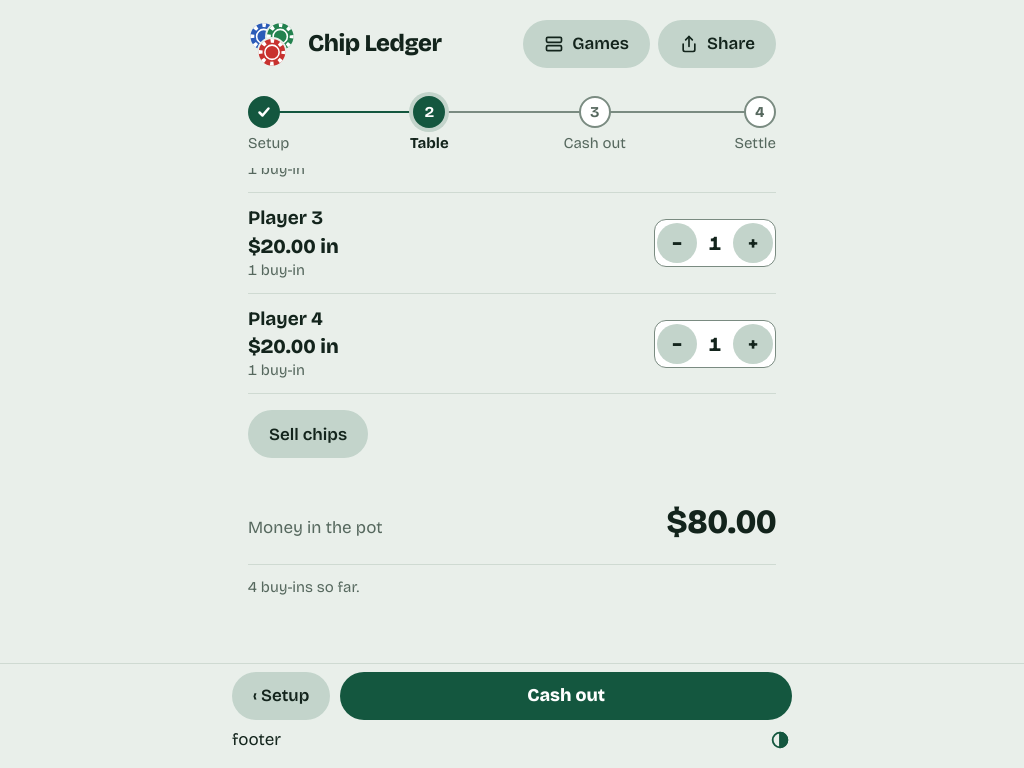
Test: SharedGameApp: chip sales (SPEC-0004) › REQ-0004-08: an editor sells chips; it shows at once and is sent as sellChips
(page scrolled)
Click the button "Sell chips".
click(308, 434)  # box top-left (248, 410), bottom-right (368, 458)
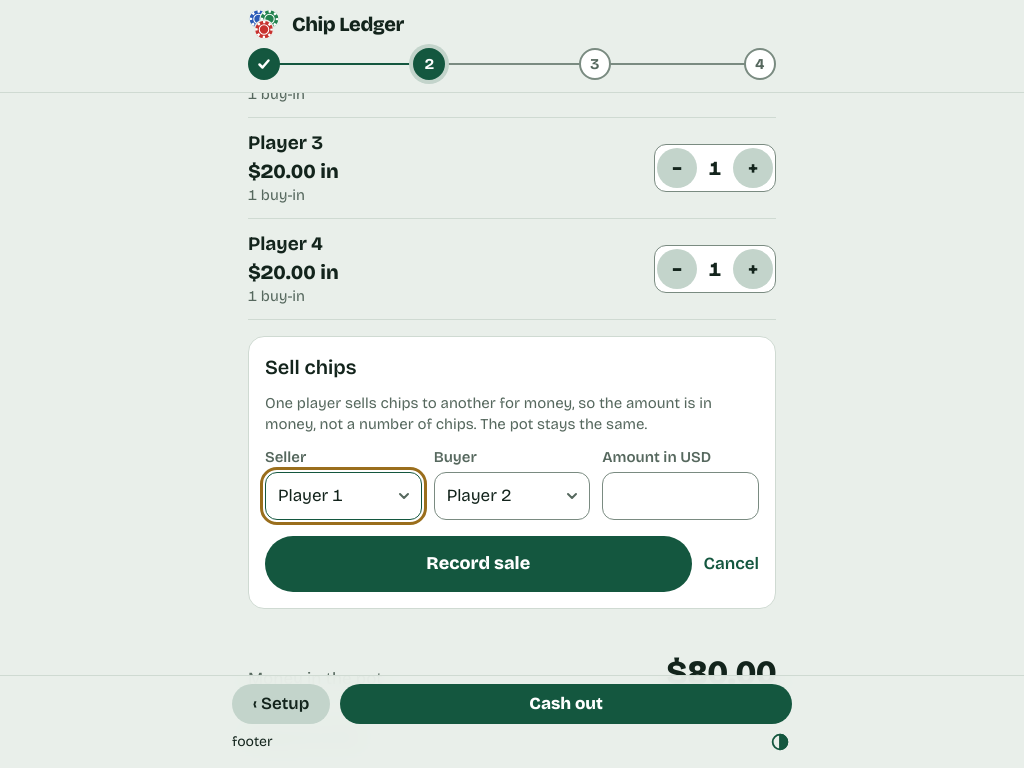
Type "5" into the field labelled "Amount in USD".
click(681, 496); type("5")  # box top-left (602, 472), bottom-right (759, 520)
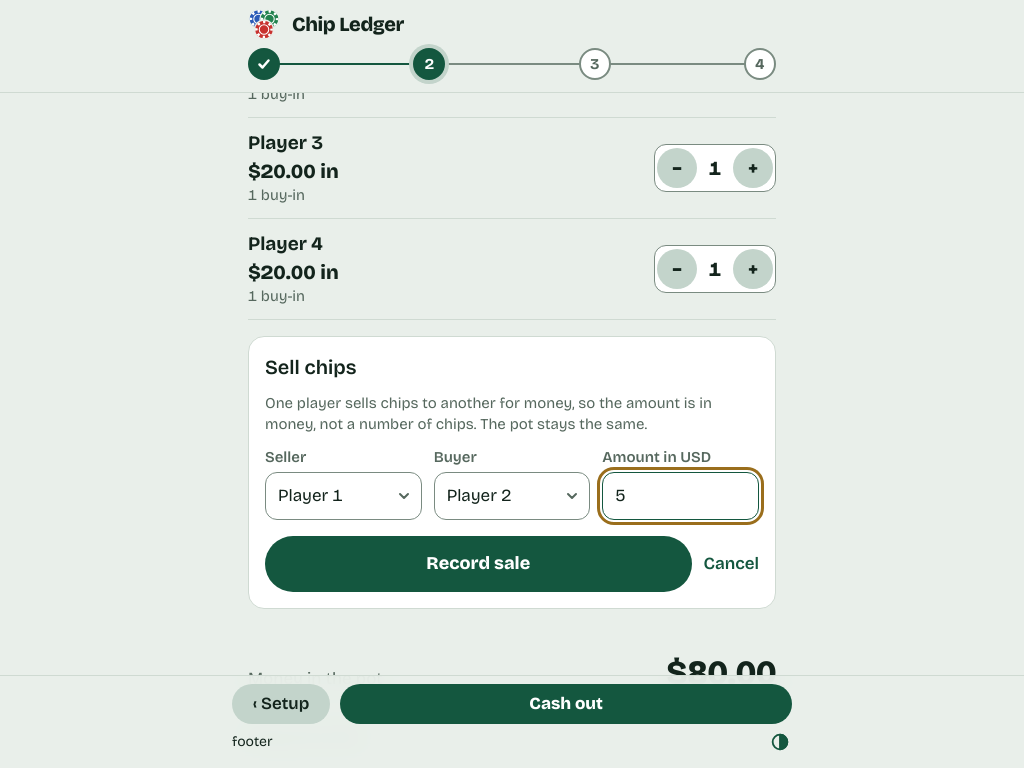
Click the button "Record sale".
click(478, 564)  # box top-left (265, 536), bottom-right (692, 592)
(page scrolled)
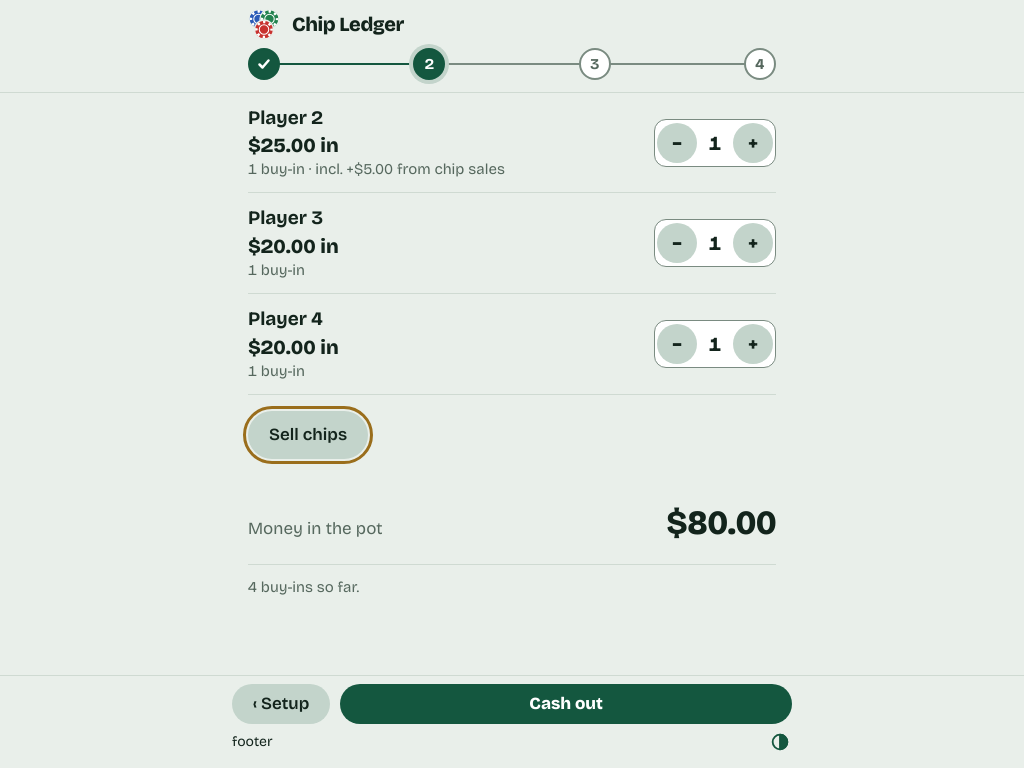
Check: the text "$15.00 in" is shown, box top-left (248, 33), bottom-right (339, 57)
Check: the text "$25.00 in" is shown, box top-left (248, 134), bottom-right (339, 158)
